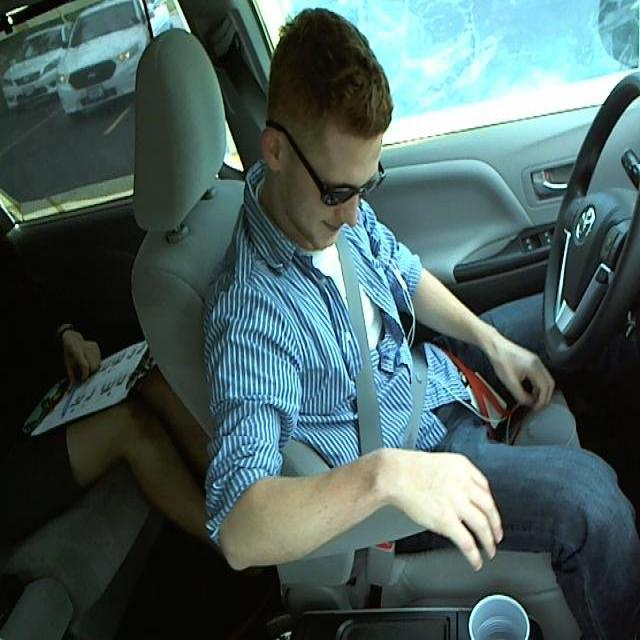seatbelt: (341, 233, 447, 448)
